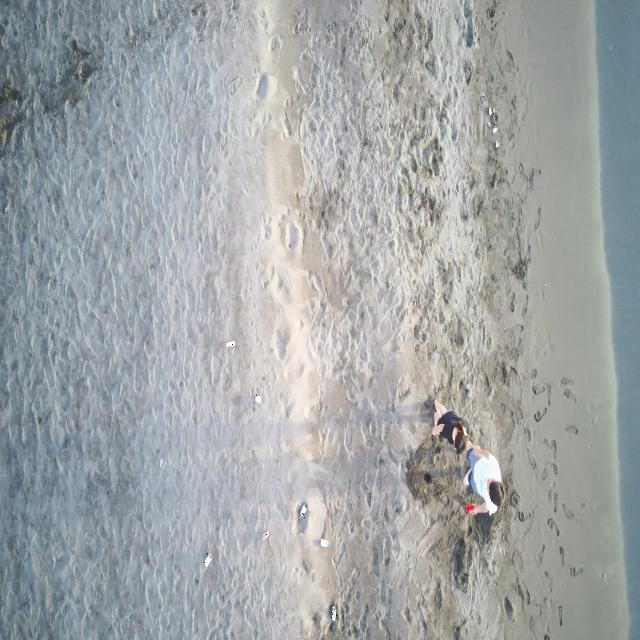tin-and-aluminum-cans: (204, 553, 212, 567), (300, 503, 307, 518), (331, 605, 337, 622), (226, 340, 236, 349), (320, 538, 328, 548), (255, 394, 262, 405), (262, 530, 269, 540)
